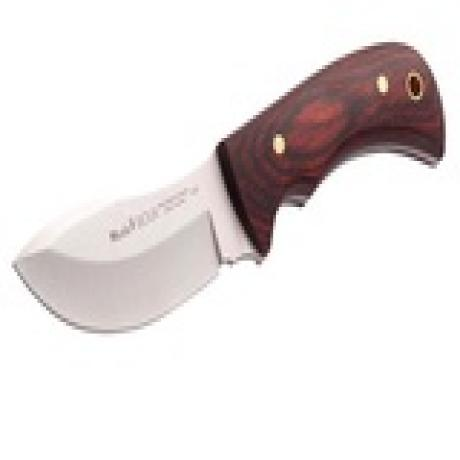weapon: (12, 38, 448, 344)
